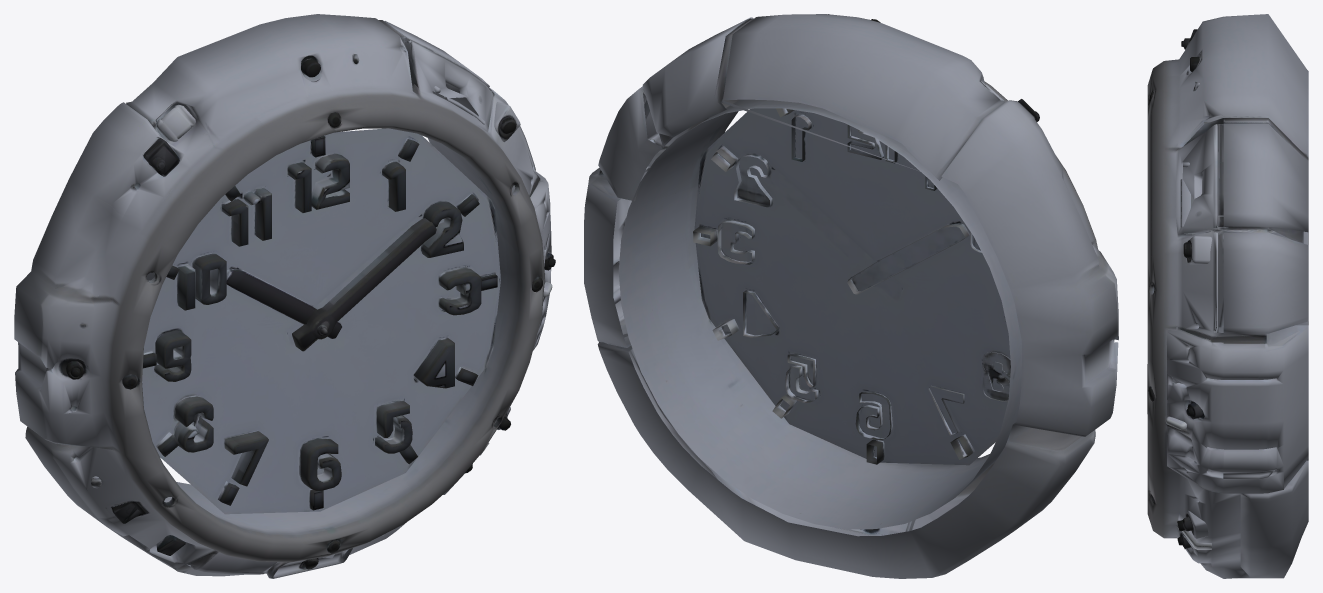
Rendered from Clock 2.glb.
3 renders of one model, left to right at view 1: azimuth 30°, elevation 25°; view 2: azimuth 150°, elevation 25°; view 3: azimuth 270°, elevation 25°, orthographic. The views are drawn at different scales.
Visible parts, largest first — view 1: tripo_node_4ace7df6-5efe-482a-a4cc-f526cad48ecf; view 2: tripo_node_4ace7df6-5efe-482a-a4cc-f526cad48ecf; view 3: tripo_node_4ace7df6-5efe-482a-a4cc-f526cad48ecf.
Boxes of the visible parts, x1,y1,x2,y2 form: tripo_node_4ace7df6-5efe-482a-a4cc-f526cad48ecf: (14,14,555,578); tripo_node_4ace7df6-5efe-482a-a4cc-f526cad48ecf: (584,14,1118,578); tripo_node_4ace7df6-5efe-482a-a4cc-f526cad48ecf: (1147,14,1308,578).
Bounding box in the file's own units: 0.9995 × 0.9888 × 0.2896.
1 material, 1 textured.
